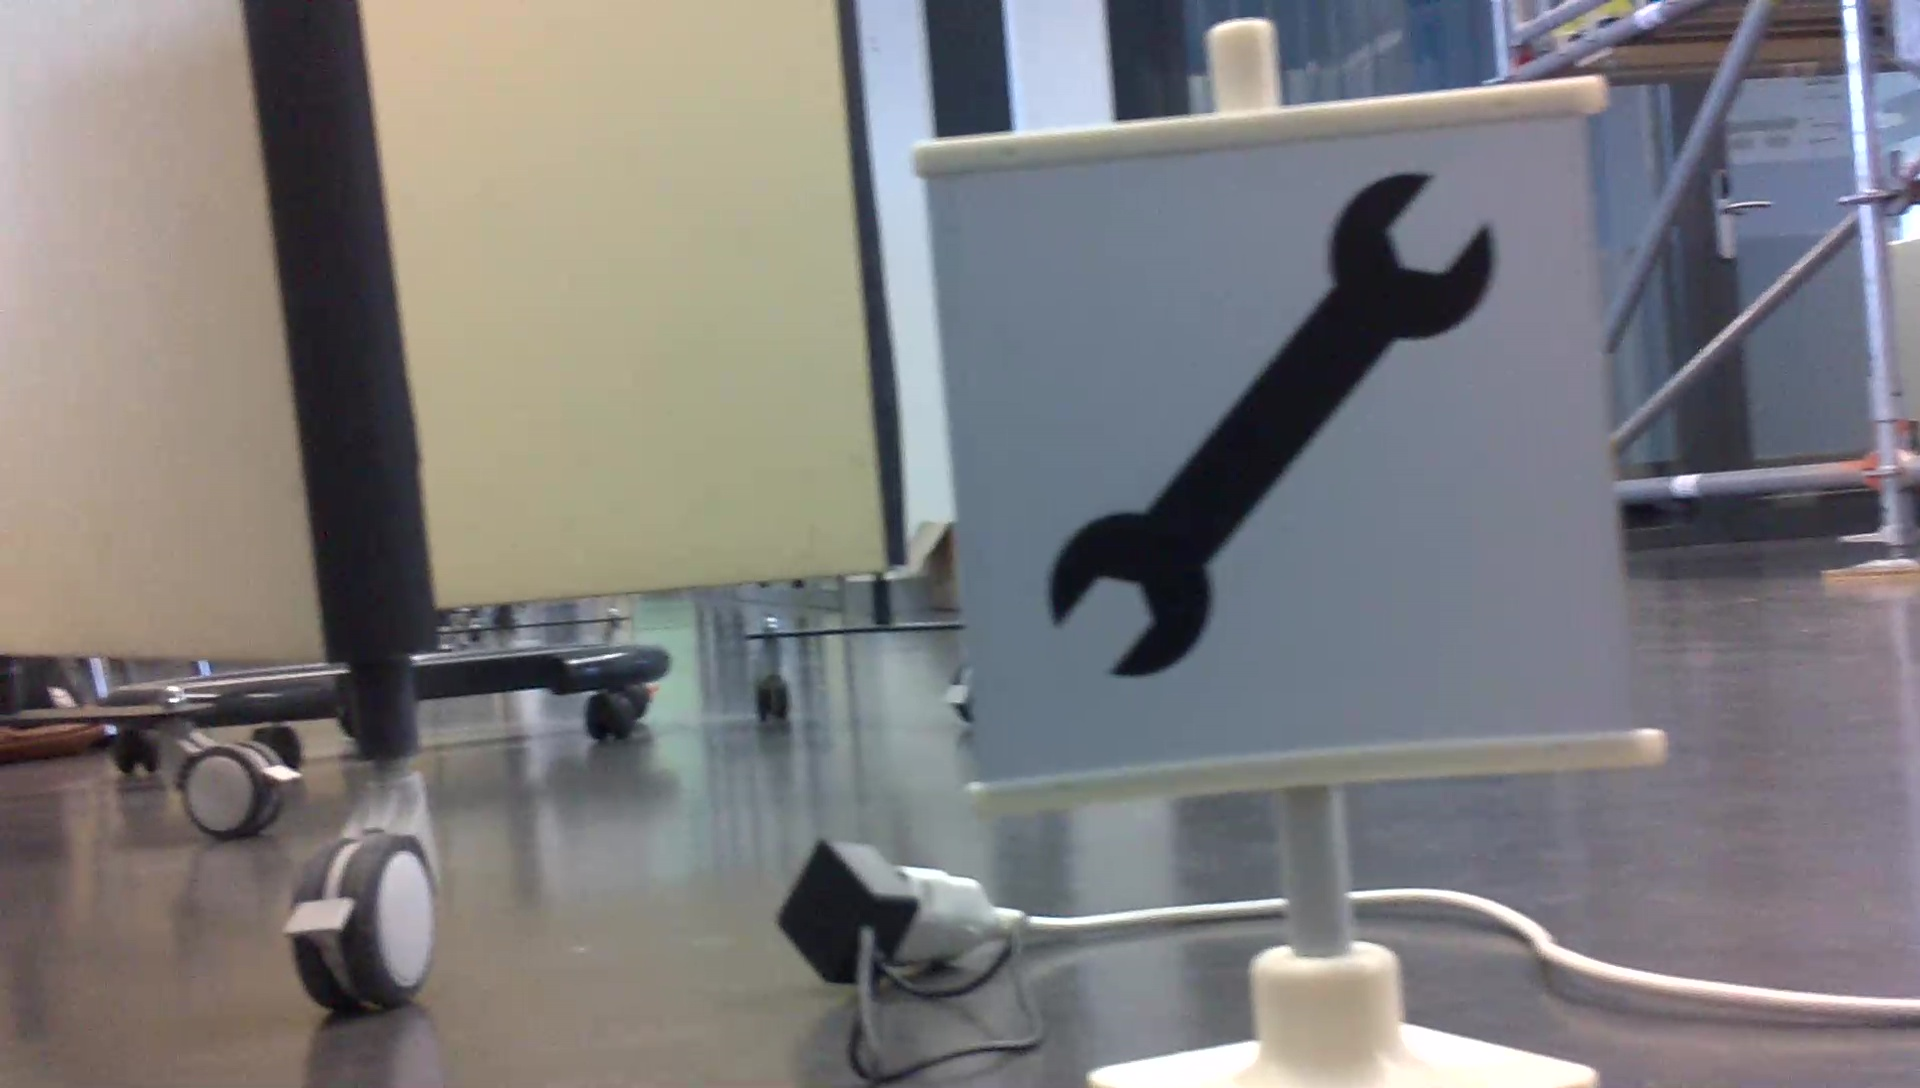wrench: (1025, 164, 1505, 687)
